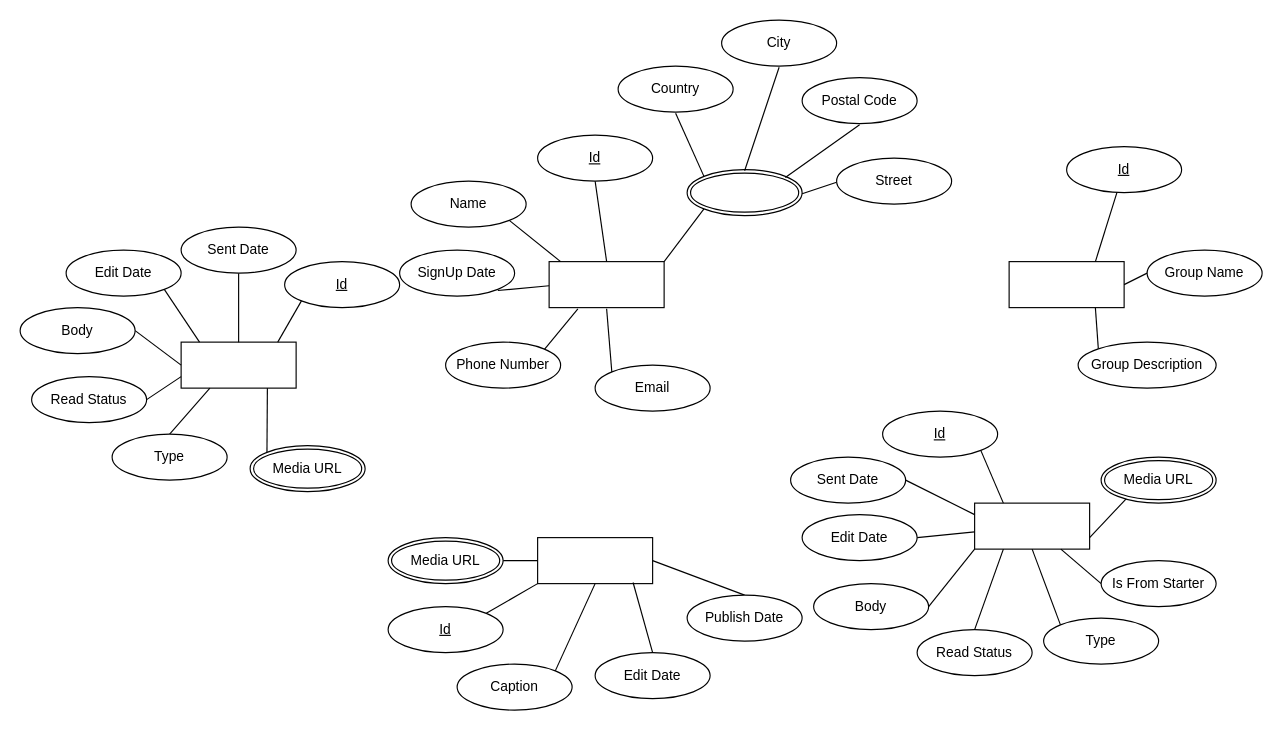
Some shapes in this 1282 by 730 pixel diagram are drawn without their labels. Each missing label, with the centre of its shape:
Adress: pixel 744 192
Group: pixel 1066 284
Group Message: pixel 238 364
Post: pixel 594 560
Private Message: pixel 1031 525
User: pixel 606 284
